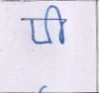i_matra: (49, 5, 67, 44)
